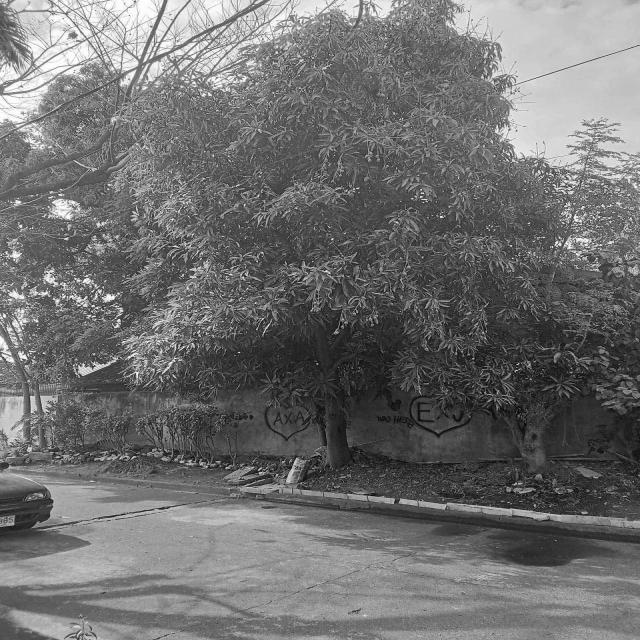Mango-Tree: (126, 32, 508, 471)
